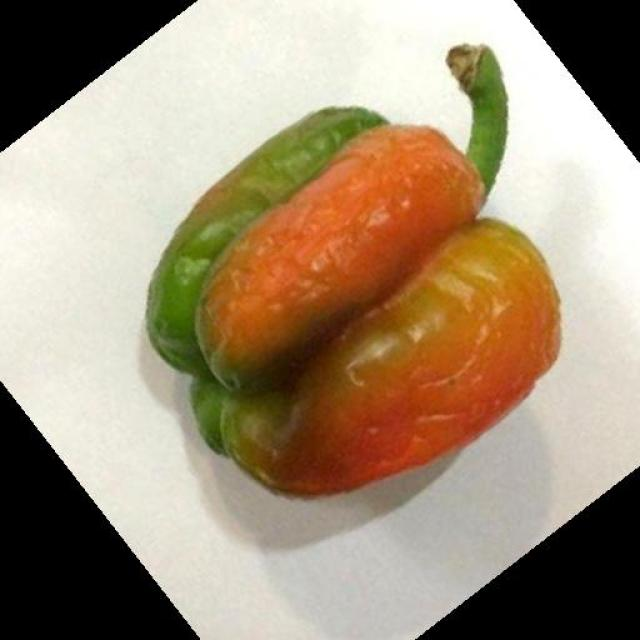Stale_Capsicum: (168, 85, 545, 498)
